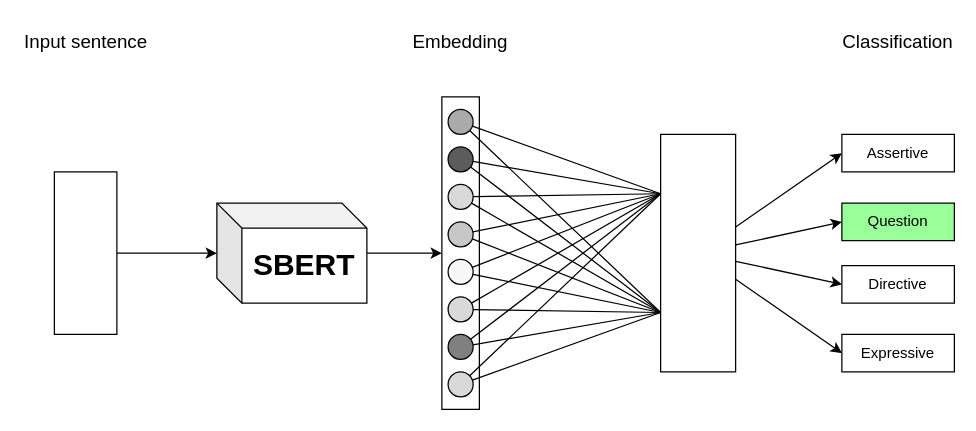
Some shapes in this 976 by 431 pixel diagram are drawn without their labels. The shapes that lost their labels are listed below. From the top down, each one's centre as x and y in pixels, then its label:
At pixel 85 252: "What does the car cost ?".
At pixel 697 252: "Fully connected classification layer".
